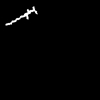double_crochet: (6, 7, 36, 24)
